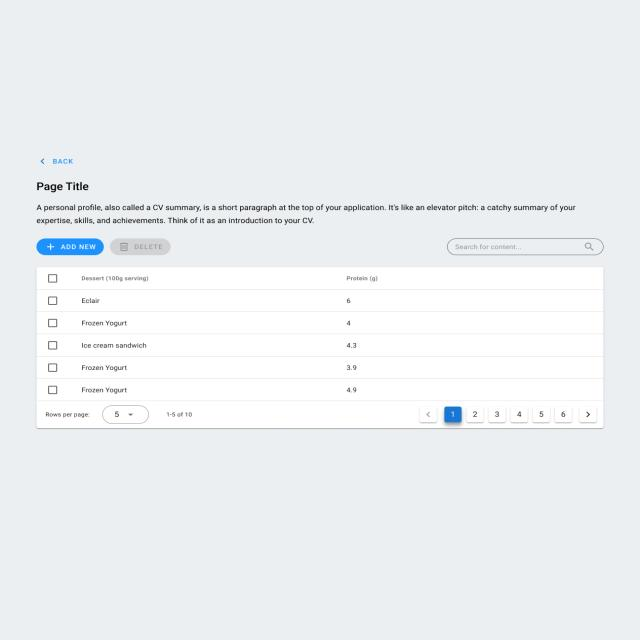QLabel: (35, 204, 578, 225), (36, 181, 89, 193), (61, 244, 96, 250), (134, 243, 163, 250), (51, 158, 73, 165)
VBtn: (36, 238, 104, 256), (110, 238, 170, 256), (36, 155, 78, 169)
VDataTable: (35, 265, 605, 431)
VIcon: (119, 242, 129, 252), (47, 244, 55, 252), (39, 158, 45, 165)
VTextField: (446, 237, 604, 256)
